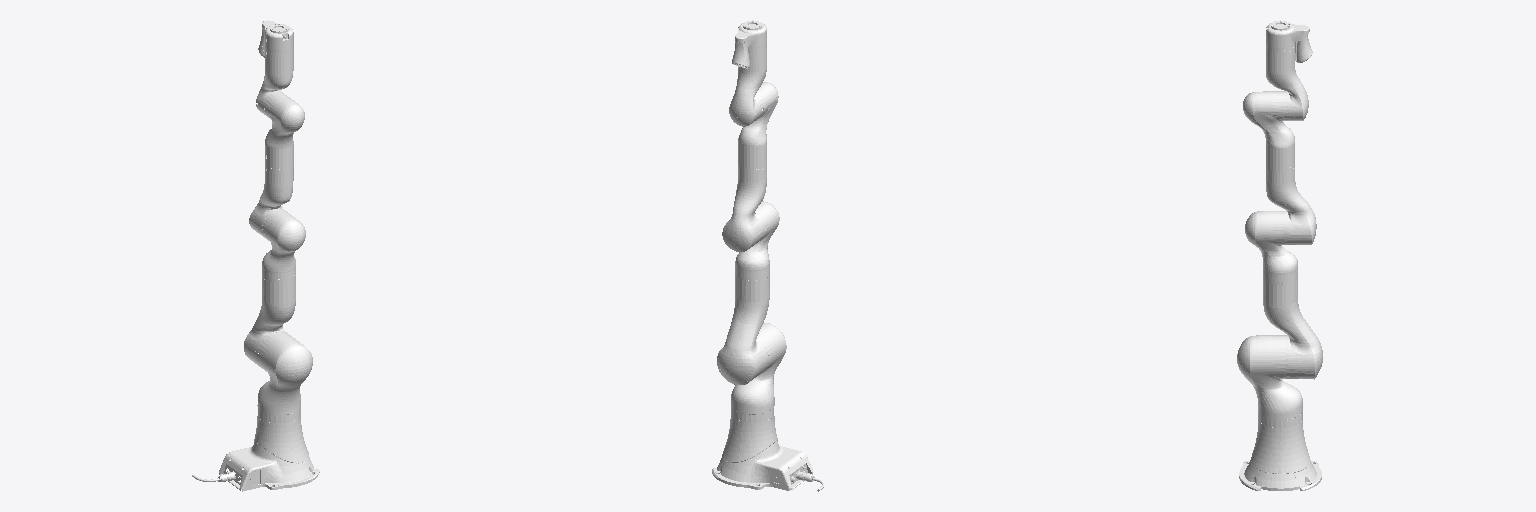
URDF robot description (XM7p):
<?xml version="1.0" encoding="utf-8"?>
<!-- This URDF was automatically created by SolidWorks to URDF Exporter! Originally created by [author] ([email redacted]) 
     Commit Version: 1.6.0-4-g7f85cfe  Build Version: 1.6.7995.38578
     For more information, please see http://wiki.ros.org/sw_urdf_exporter -->
<robot
  name="XM7p">
  <link
    name="base_link">
    <inertial>
      <origin
        xyz="-0.019095 3.5865E-05 0.074179"
        rpy="0 0 0" />
      <mass
        value="7.756" />
      <inertia
        ixx="0.04077"
        ixy="3.0813E-05"
        ixz="-0.0058221"
        iyy="0.052589"
        iyz="6.6559E-06"
        izz="0.044751" />
    </inertial>
    <visual>
      <origin
        xyz="0 0 0"
        rpy="0 0 0" />
      <geometry>
        <mesh
          filename="package://XM7p/meshes/base_link.STL" />
      </geometry>
      <material
        name="">
        <color
          rgba="1 1 1 1" />
      </material>
    </visual>
    <collision>
      <origin
        xyz="0 0 0"
        rpy="0 0 0" />
      <geometry>
        <mesh
          filename="package://XM7p/meshes/base_link.STL" />
      </geometry>
    </collision>
  </link>
  <link
    name="link1">
    <inertial>
      <origin
        xyz="5.8834E-06 -0.030793 -0.066288"
        rpy="0 0 0" />
      <mass
        value="5.4372" />
      <inertia
        ixx="0.043824"
        ixy="-2.0753E-06"
        ixz="-5.7908E-06"
        iyy="0.039523"
        iyz="0.0085155"
        izz="0.015768" />
    </inertial>
    <visual>
      <origin
        xyz="0 0 0"
        rpy="0 0 0" />
      <geometry>
        <mesh
          filename="package://XM7p/meshes/link1.STL" />
      </geometry>
      <material
        name="">
        <color
          rgba="1 1 1 1" />
      </material>
    </visual>
    <collision>
      <origin
        xyz="0 0 0"
        rpy="0 0 0" />
      <geometry>
        <mesh
          filename="package://XM7p/meshes/link1.STL" />
      </geometry>
    </collision>
  </link>
  <joint
    name="joint1"
    type="revolute">
    <origin
      xyz="0 0 0.404"
      rpy="0 0 0" />
    <parent
      link="base_link" />
    <child
      link="link1" />
    <axis
      xyz="0 0 1" />
    <limit
      lower="-2.97"
      upper="2.97"
      effort="85"
      velocity="2.175" />
  </joint>
  <link
    name="link2">
    <inertial>
      <origin
        xyz="-4.795E-06 0.097106 0.038346"
        rpy="0 0 0" />
      <mass
        value="4.6815" />
      <inertia
        ixx="0.055152"
        ixy="3.2348E-06"
        ixz="-9.7274E-07"
        iyy="0.012283"
        iyz="0.01393"
        izz="0.051008" />
    </inertial>
    <visual>
      <origin
        xyz="0 0 0"
        rpy="0 0 0" />
      <geometry>
        <mesh
          filename="package://XM7p/meshes/link2.STL" />
      </geometry>
      <material
        name="">
        <color
          rgba="1 1 1 1" />
      </material>
    </visual>
    <collision>
      <origin
        xyz="0 0 0"
        rpy="0 0 0" />
      <geometry>
        <mesh
          filename="package://XM7p/meshes/link2.STL" />
      </geometry>
    </collision>
  </link>
  <joint
    name="joint2"
    type="revolute">
    <origin
      xyz="0 0 0"
      rpy="1.5708 0 3.1416" />
    <parent
      link="link1" />
    <child
      link="link2" />
    <axis
      xyz="0 0 1" />
    <limit
      lower="-2.09"
      upper="2.09"
      effort="85"
      velocity="2.175" />
  </joint>
  <link
    name="link3">
    <inertial>
      <origin
        xyz="9.2637E-07 -0.025672 -0.051737"
        rpy="0 0 0" />
      <mass
        value="2.6054" />
      <inertia
        ixx="0.013546"
        ixy="-9.8457E-07"
        ixz="-7.0341E-07"
        iyy="0.012094"
        iyz="0.0027648"
        izz="0.0048088" />
    </inertial>
    <visual>
      <origin
        xyz="0 0 0"
        rpy="0 0 0" />
      <geometry>
        <mesh
          filename="package://XM7p/meshes/link3.STL" />
      </geometry>
      <material
        name="">
        <color
          rgba="1 1 1 1" />
      </material>
    </visual>
    <collision>
      <origin
        xyz="0 0 0"
        rpy="0 0 0" />
      <geometry>
        <mesh
          filename="package://XM7p/meshes/link3.STL" />
      </geometry>
    </collision>
  </link>
  <joint
    name="joint3"
    type="revolute">
    <origin
      xyz="0 0.4375 0"
      rpy="1.5708 0 3.1416" />
    <parent
      link="link2" />
    <child
      link="link3" />
    <axis
      xyz="0 0 1" />
    <limit
      lower="-2.97"
      upper="2.97"
      effort="85"
      velocity="2.175" />
  </joint>
  <link
    name="link4">
    <inertial>
      <origin
        xyz="-3.0864E-06 0.075674 0.032909"
        rpy="0 0 0" />
      <mass
        value="2.6465" />
      <inertia
        ixx="0.019258"
        ixy="1.1423E-06"
        ixz="-3.5897E-07"
        iyy="0.0049485"
        iyz="0.0051123"
        izz="0.017278" />
    </inertial>
    <visual>
      <origin
        xyz="0 0 0"
        rpy="0 0 0" />
      <geometry>
        <mesh
          filename="package://XM7p/meshes/link4.STL" />
      </geometry>
      <material
        name="">
        <color
          rgba="1 1 1 1" />
      </material>
    </visual>
    <collision>
      <origin
        xyz="0 0 0"
        rpy="0 0 0" />
      <geometry>
        <mesh
          filename="package://XM7p/meshes/link4.STL" />
      </geometry>
    </collision>
  </link>
  <joint
    name="joint4"
    type="revolute">
    <origin
      xyz="0 0 0"
      rpy="1.5708 0 3.1416" />
    <parent
      link="link3" />
    <child
      link="link4" />
    <axis
      xyz="0 0 1" />
    <limit
      lower="-2.09"
      upper="2.09"
      effort="85"
      velocity="2.175" />
  </joint>
  <link
    name="link5">
    <inertial>
      <origin
        xyz="9.6604E-06 -0.023095 -0.066588"
        rpy="0 0 0" />
      <mass
        value="2.5198" />
      <inertia
        ixx="0.016116"
        ixy="-9.4059E-07"
        ixz="1.3785E-06"
        iyy="0.014054"
        iyz="0.0031845"
        izz="0.0043812" />
    </inertial>
    <visual>
      <origin
        xyz="0 0 0"
        rpy="0 0 0" />
      <geometry>
        <mesh
          filename="package://XM7p/meshes/link5.STL" />
      </geometry>
      <material
        name="">
        <color
          rgba="1 1 1 1" />
      </material>
    </visual>
    <collision>
      <origin
        xyz="0 0 0"
        rpy="0 0 0" />
      <geometry>
        <mesh
          filename="package://XM7p/meshes/link5.STL" />
      </geometry>
    </collision>
  </link>
  <joint
    name="joint5"
    type="revolute">
    <origin
      xyz="0 0.4125 0"
      rpy="1.5708 0 3.1416" />
    <parent
      link="link4" />
    <child
      link="link5" />
    <axis
      xyz="0 0 1" />
    <limit
      lower="-2.97"
      upper="2.97"
      effort="36"
      velocity="2.61" />
  </joint>
  <link
    name="link6">
    <inertial>
      <origin
        xyz="-1.8004E-05 0.094771 0.01896"
        rpy="0 0 0" />
      <mass
        value="1.9096" />
      <inertia
        ixx="0.011346"
        ixy="-1.3488E-06"
        ixz="5.0282E-07"
        iyy="0.0026838"
        iyz="0.0027856"
        izz="0.010421" />
    </inertial>
    <visual>
      <origin
        xyz="0 0 0"
        rpy="0 0 0" />
      <geometry>
        <mesh
          filename="package://XM7p/meshes/link6.STL" />
      </geometry>
      <material
        name="">
        <color
          rgba="1 1 1 1" />
      </material>
    </visual>
    <collision>
      <origin
        xyz="0 0 0"
        rpy="0 0 0" />
      <geometry>
        <mesh
          filename="package://XM7p/meshes/link6.STL" />
      </geometry>
    </collision>
  </link>
  <joint
    name="joint6"
    type="revolute">
    <origin
      xyz="0 0 0"
      rpy="1.5708 0 3.1416" />
    <parent
      link="link5" />
    <child
      link="link6" />
    <axis
      xyz="0 0 1" />
    <limit
      lower="-2.09"
      upper="2.09"
      effort="36"
      velocity="2.61" />
  </joint>
  <link
    name="link7">
    <inertial>
      <origin
        xyz="3.9288E-05 0.020938 -0.046793"
        rpy="0 0 0" />
      <mass
        value="0.87838" />
      <inertia
        ixx="0.0018386"
        ixy="-4.1625E-07"
        ixz="-6.6741E-07"
        iyy="0.0010239"
        iyz="0.00037753"
        izz="0.0015317" />
    </inertial>
    <visual>
      <origin
        xyz="0 0 0"
        rpy="0 0 0" />
      <geometry>
        <mesh
          filename="package://XM7p/meshes/link7.STL" />
      </geometry>
      <material
        name="">
        <color
          rgba="1 1 1 1" />
      </material>
    </visual>
    <collision>
      <origin
        xyz="0 0 0"
        rpy="0 0 0" />
      <geometry>
        <mesh
          filename="package://XM7p/meshes/link7.STL" />
      </geometry>
    </collision>
  </link>
  <joint
    name="joint7"
    type="revolute">
    <origin
      xyz="0 0.2755 0"
      rpy="1.5708 0 3.1416" />
    <parent
      link="link6" />
    <child
      link="link7" />
    <axis
      xyz="0 0 1" />
    <limit
      lower="-6.28"
      upper="6.28"
      effort="36"
      velocity="2.61" />
  </joint>
</robot>

--- Facts derived from the render (not from the file) ---
Views: 3 orthographic renders of the robot side by side, from view 1: azimuth 30°, elevation 25°; view 2: azimuth 150°, elevation 25°; view 3: azimuth 270°, elevation 25°.
Robot: XM7p — 8 links, 7 joints (7 revolute); root link base_link; default pose: all joints at 0.
Visible links, largest first — view 1: base_link, link1, link3, link5, link2, link4, link6, link7; view 2: base_link, link2, link1, link4, link5, link6, link3, link7; view 3: base_link, link1, link2, link5, link3, link4, link6, link7.
Link boxes in pixels (bbox=[...]): base_link: bbox=[192, 416, 319, 491]; link1: bbox=[257, 332, 312, 422]; link3: bbox=[262, 210, 305, 282]; link5: bbox=[264, 92, 304, 171]; link2: bbox=[244, 277, 295, 368]; link4: bbox=[249, 167, 293, 237]; link6: bbox=[256, 50, 293, 114]; link7: bbox=[258, 20, 293, 57]; base_link: bbox=[712, 416, 823, 491]; link2: bbox=[717, 275, 769, 384]; link1: bbox=[731, 323, 786, 422]; link4: bbox=[722, 165, 766, 251]; link5: bbox=[738, 82, 778, 169]; link6: bbox=[729, 48, 766, 126]; link3: bbox=[735, 201, 779, 280]; link7: bbox=[732, 20, 766, 68]; base_link: bbox=[1239, 419, 1321, 490]; link1: bbox=[1237, 335, 1302, 427]; link2: bbox=[1263, 278, 1322, 379]; link5: bbox=[1243, 91, 1294, 171]; link3: bbox=[1245, 211, 1297, 284]; link4: bbox=[1266, 168, 1316, 244]; link6: bbox=[1266, 49, 1308, 120]; link7: bbox=[1266, 20, 1312, 62].
Bounding box of the posed robot: 0.3844 × 0.2642 × 1.53 m (x, y, z).
Meshes: 8 distinct files referenced, 8 mesh visuals loaded (8 binary STL).